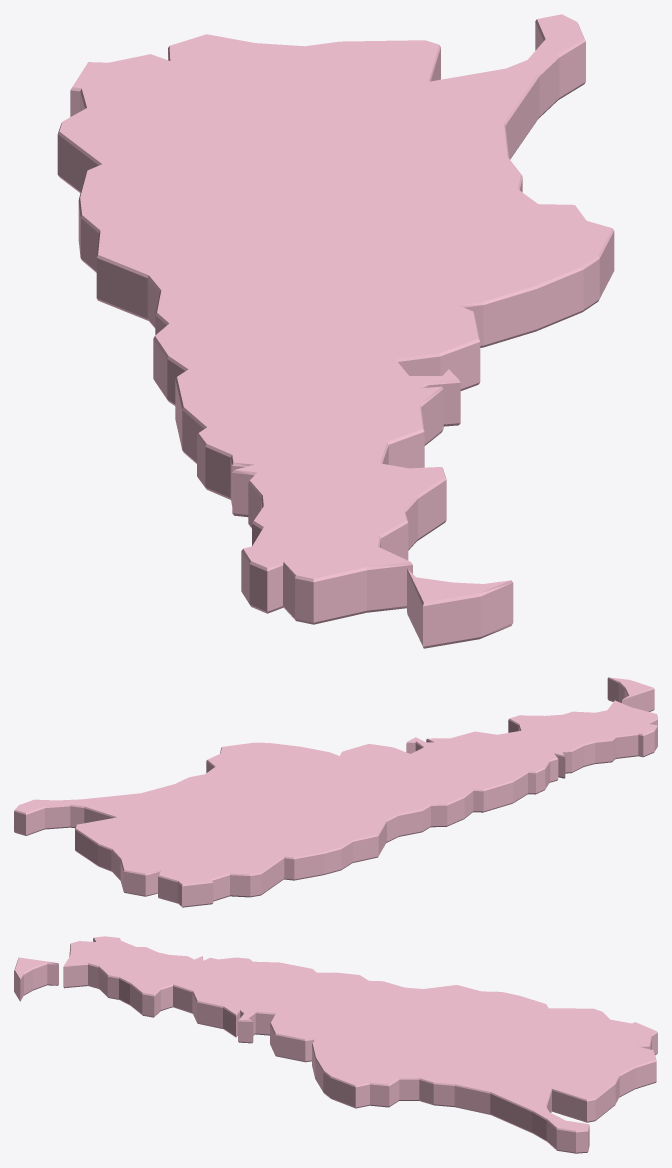
Rendered from ARG.glb.
The picture shows the model from 3 angles, top to bottom: view 1: azimuth 30°, elevation 25°; view 2: azimuth 150°, elevation 25°; view 3: azimuth 270°, elevation 25°; orthographic projection. The views are drawn at different scales.
Size of the model in its own units: 1.24 by 0.068 by 1.73.
